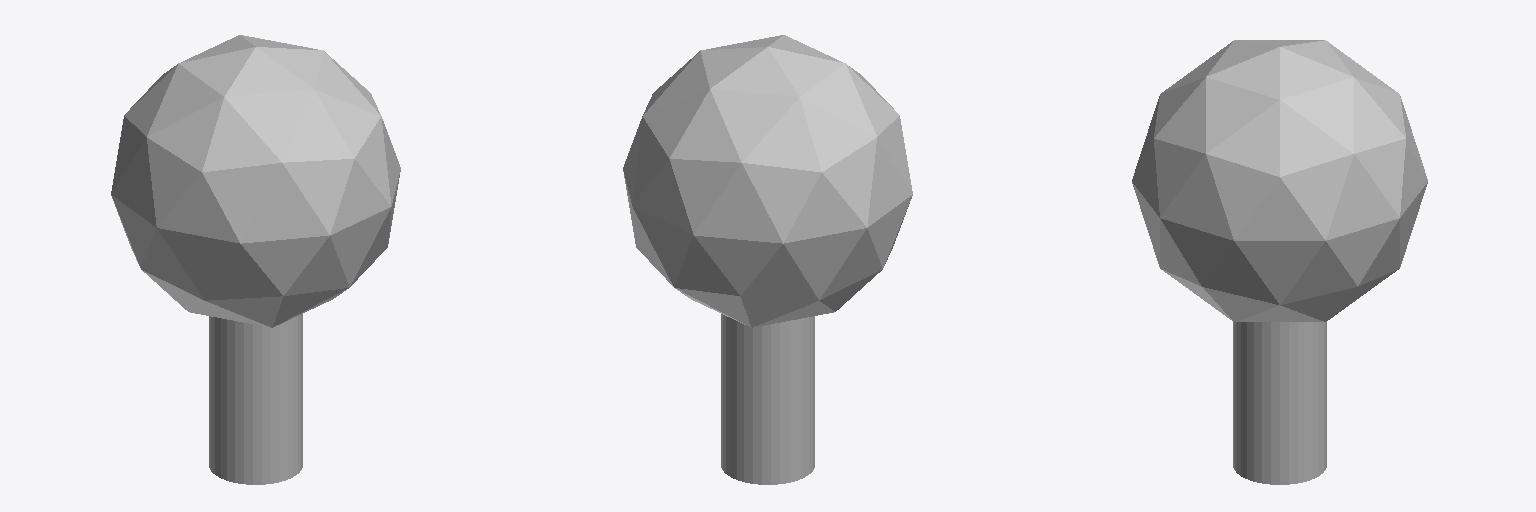
The model's file is tree_2.obj.
3 views of the same model, side by side, from view 1: azimuth 30°, elevation 25°; view 2: azimuth 150°, elevation 25°; view 3: azimuth 270°, elevation 25° (orthographic).
Visible parts, largest first — view 1: Cylinder; view 2: Cylinder; view 3: Cylinder.
Part boxes in pixels (left/top/right/bottom): Cylinder: left=111, top=35, right=400, bottom=484; Cylinder: left=623, top=35, right=912, bottom=484; Cylinder: left=1132, top=40, right=1427, bottom=484.
Size of the model in its own units: 5.99 by 9.8 by 6.3.